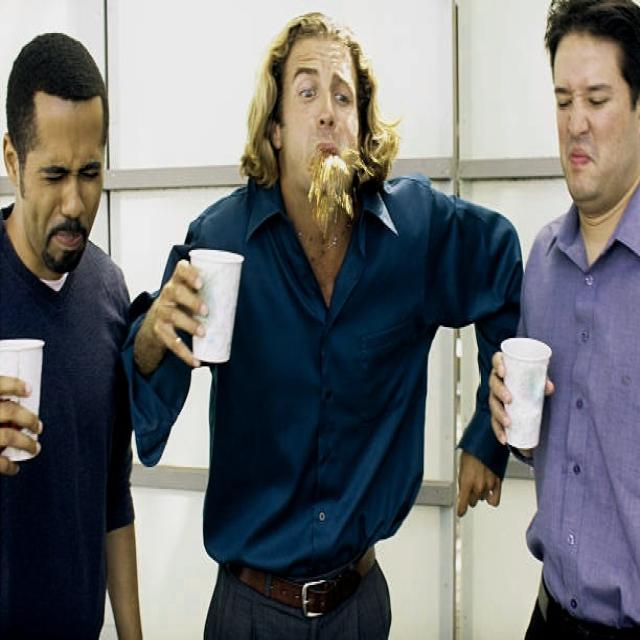Spitting: (242, 13, 404, 278)
